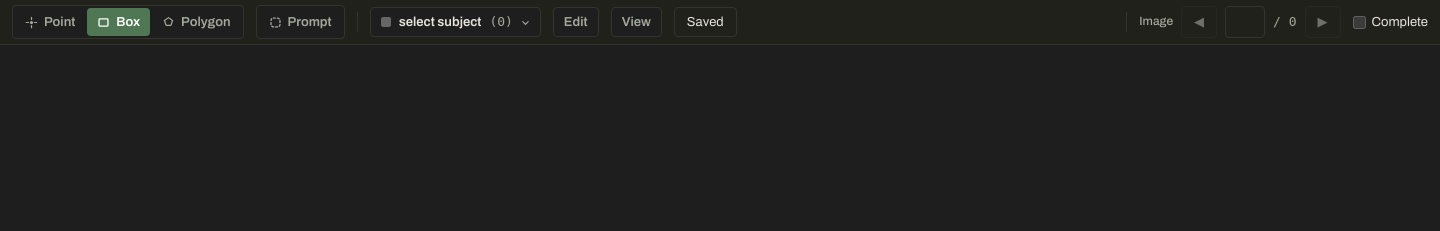
Test: AnnotateToolbar Cut item › states the disabled reason outside polygon mode
Click the button "Edit". click: click(576, 22)
box: [553,7,599,37]
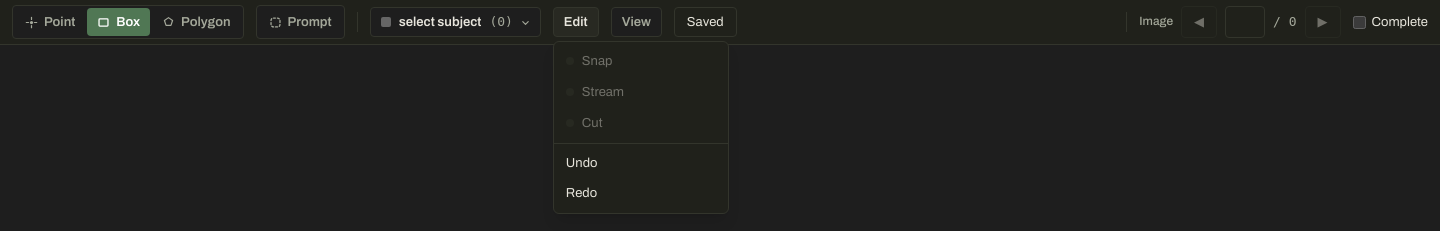
Expected: the menu item "Cut" is disabled, [554,108,728,138]
